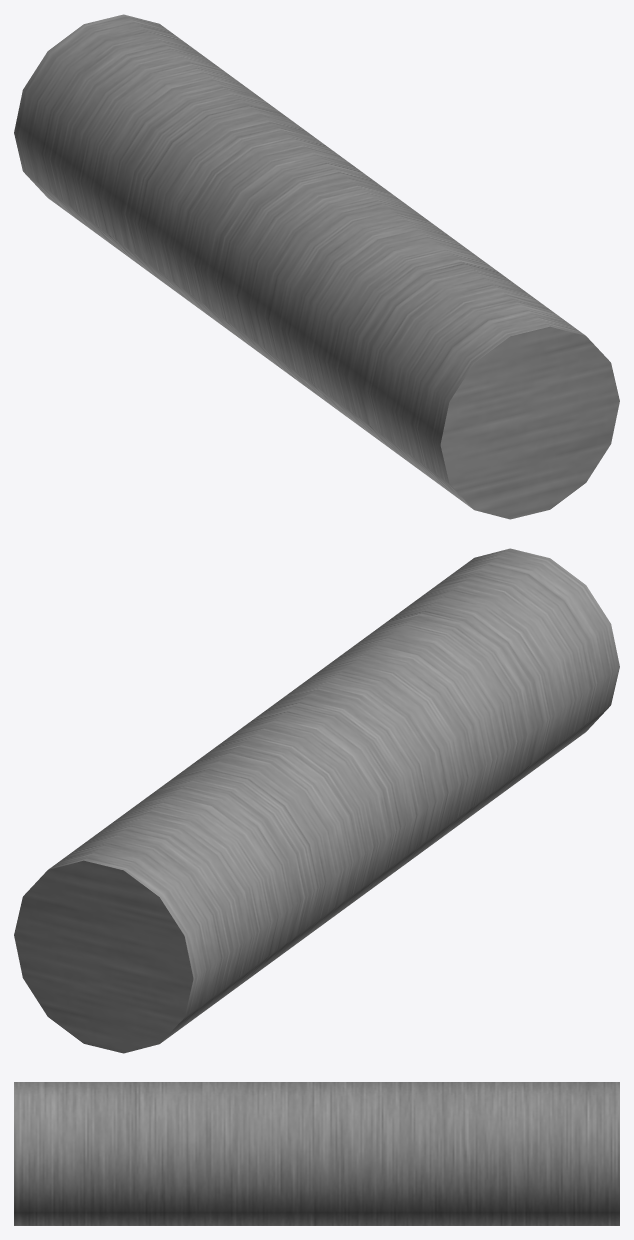
The model's file is pipe-1x4.fbx.
3 views of the same model, one above another, from view 1: azimuth 30°, elevation 25°; view 2: azimuth 150°, elevation 25°; view 3: azimuth 270°, elevation 25° (orthographic). The views are drawn at different scales.
Visible parts, largest first — view 1: pipe1x4; view 2: pipe1x4; view 3: pipe1x4.
Part boxes in pixels (x1,y1,x2,y2): pipe1x4: (14, 14, 619, 519); pipe1x4: (14, 548, 619, 1053); pipe1x4: (14, 1082, 619, 1225).
Bounding box in the file's own units: 96.72 × 94.29 × 398.
